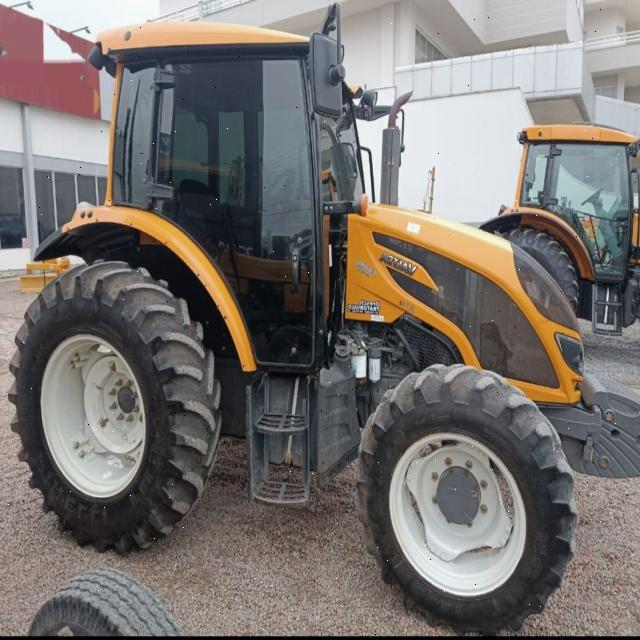Tratores - v5 YOLO V8L 2024-11-13: (8, 15, 606, 634), (501, 125, 639, 331)
